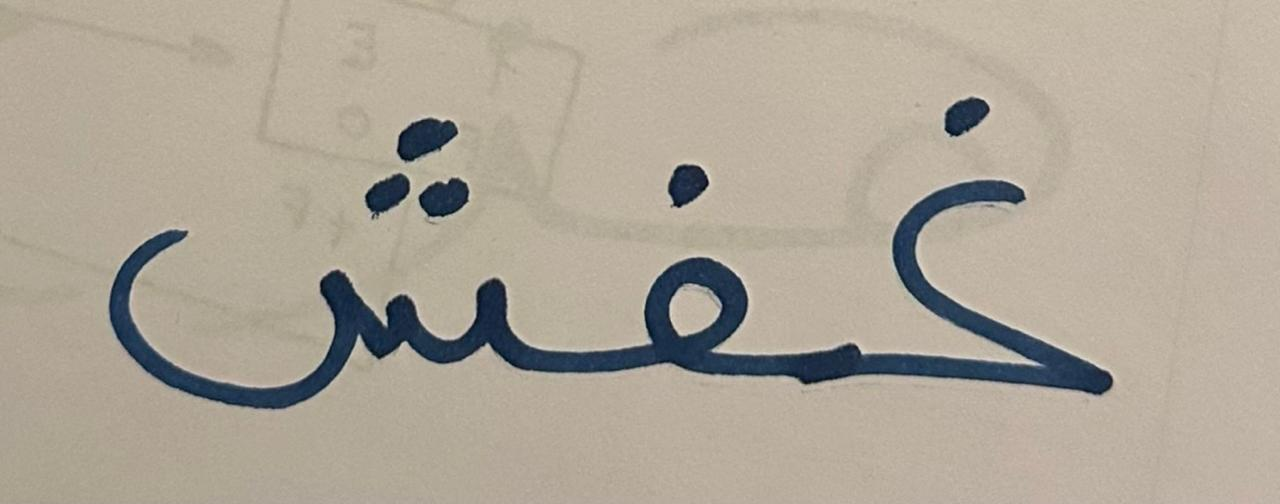feh: (547, 52, 787, 452)
ghain: (790, 55, 1139, 445)
tah: (79, 16, 542, 455)
